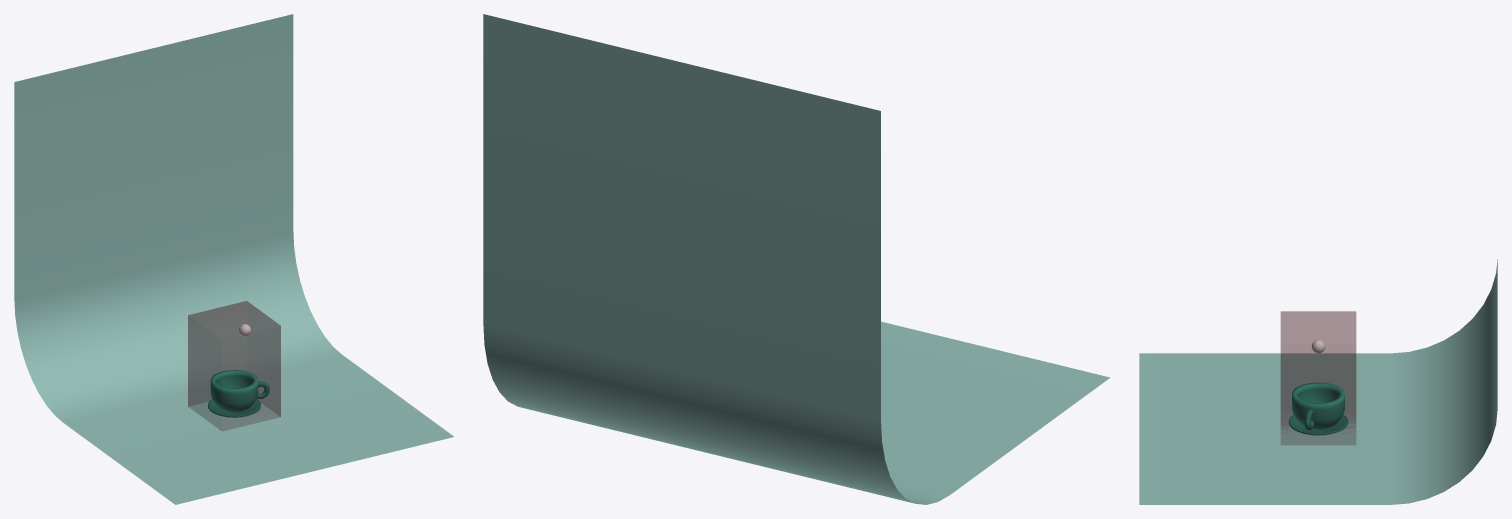
Rendered from coffeee-pouring.glb.
The picture shows the model from 3 angles, left to right: view 1: azimuth 30°, elevation 25°; view 2: azimuth 150°, elevation 25°; view 3: azimuth 270°, elevation 25°; orthographic projection. The views are drawn at different scales.
Visible parts, largest first — view 1: Plane, Cube, Circle.001; view 2: Plane; view 3: Plane, Cube, Circle.001, Circle.
Boxes of the visible parts, box(x1,y1,x2,y2) form: Plane: box(14, 14, 453, 504); Cube: box(188, 301, 280, 430); Circle.001: box(210, 370, 258, 413); Plane: box(483, 14, 1110, 504); Plane: box(1139, 259, 1497, 504); Cube: box(1281, 311, 1355, 444); Circle.001: box(1292, 382, 1344, 430); Circle: box(1288, 415, 1348, 435).
Bounding box in the file's own units: 26.51 × 27.69 × 26.51.
